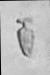V6: (4, 0, 46, 74)
